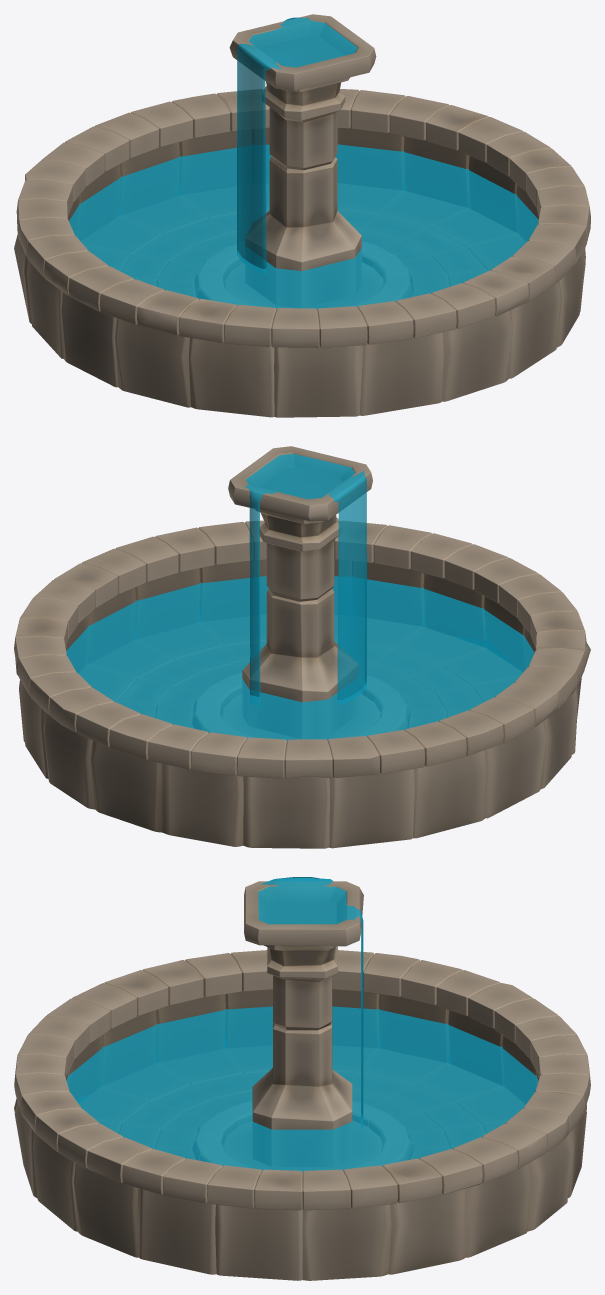
File: fountain.fbx
3 renders of one model, top to bottom at view 1: azimuth 30°, elevation 25°; view 2: azimuth 150°, elevation 25°; view 3: azimuth 270°, elevation 25°, orthographic.
Parts seen in each view (by area): view 1: Fontein1_lambert2_0, FountainWater_Water_0, pCube2_lambert2_0; view 2: Fontein1_lambert2_0, FountainWater_Water_0, pCube2_lambert2_0; view 3: Fontein1_lambert2_0, FountainWater_Water_0, pCube2_lambert2_0.
Boxes of the visible parts, x1,y1,x2,y2 form: Fontein1_lambert2_0: (14, 89, 590, 417); FountainWater_Water_0: (69, 17, 538, 309); pCube2_lambert2_0: (229, 14, 376, 307); Fontein1_lambert2_0: (14, 520, 590, 848); FountainWater_Water_0: (66, 453, 534, 740); pCube2_lambert2_0: (228, 446, 372, 738); Fontein1_lambert2_0: (14, 950, 590, 1280); FountainWater_Water_0: (66, 877, 538, 1172); pCube2_lambert2_0: (244, 881, 363, 1166).
Bounding box in the file's own units: 621 × 308 × 618.
Materials: 2 (1 with a texture image).
